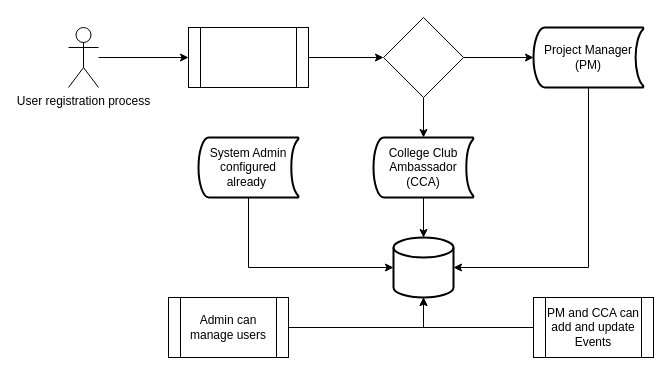
The diagram is 671 pixels wide and 375 high, and some of its shapes have lost their labels. The centre of each missing label's shape, as x and y in pixels:
"RDBMS" goes at pixel 423 267.
"Registration page" goes at pixel 248 57.
"select role" goes at pixel 423 57.
